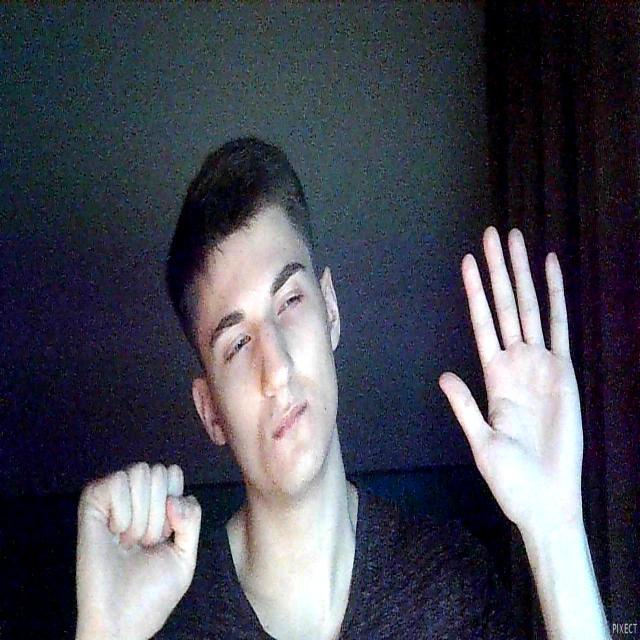Eyeclosed: (224, 332, 251, 368), (277, 289, 304, 317)
